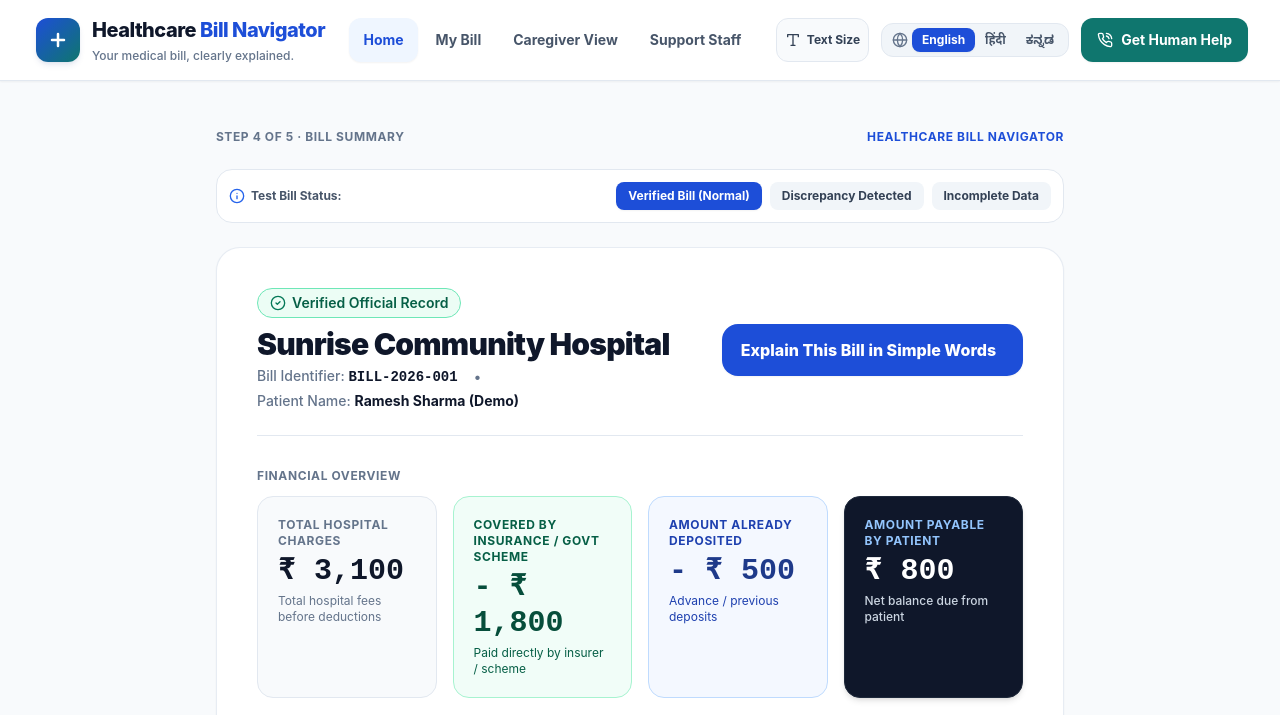
Test: BillInformationPage › shows amount discrepancy notice when discrepancy preset is selected
Click the button "Discrepancy Detected" at point(847, 196), box left=770, top=182, right=924, bottom=210
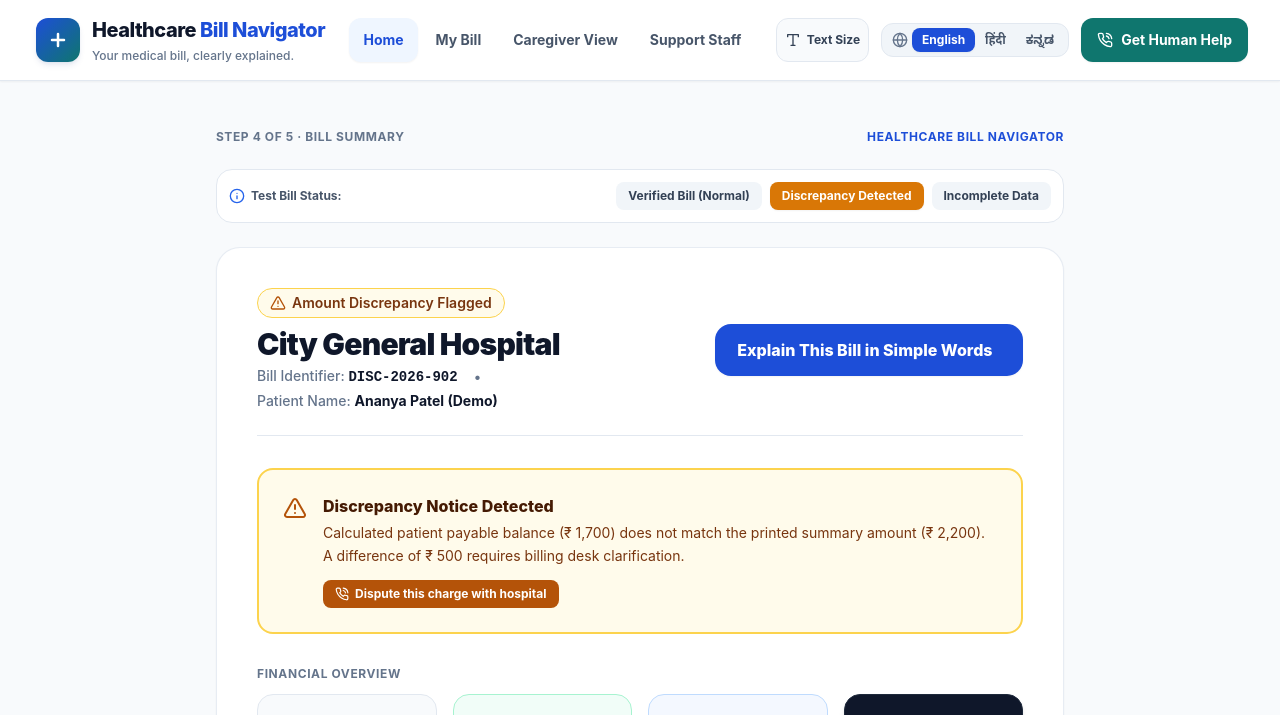
Now the text "Amount Discrepancy Flagged" is shown, box left=292, top=293, right=492, bottom=313
Now the heading "Discrepancy Notice Detected" is shown, box left=323, top=496, right=554, bottom=516
